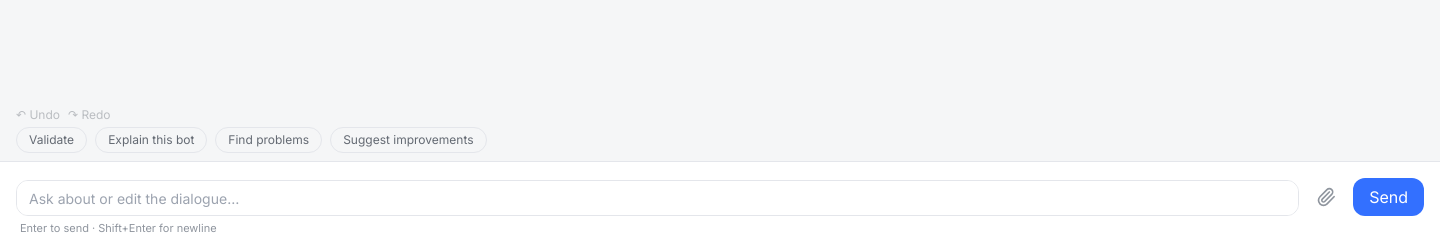
Test: ChatPane @-mention › typing "@" lists components and nodes from the summary
Type "edit @" into the text box with placeholder "Ask about or edit the dialogue…".
click(658, 198); type("edit @")  # box [16,180,1299,216]
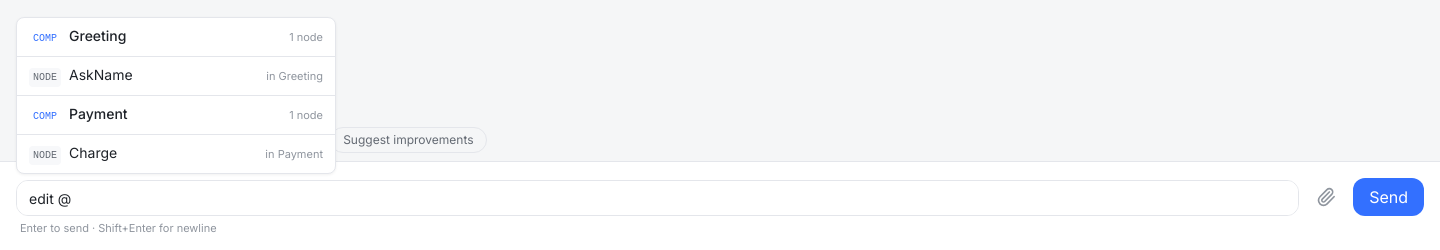
Expected: the element with test id "mention-menu" is shown, [16,16,336,174]
Expected: the text "Greeting" is shown, [69,26,126,46]
Expected: the text "AskName" is shown, [69,64,133,84]
